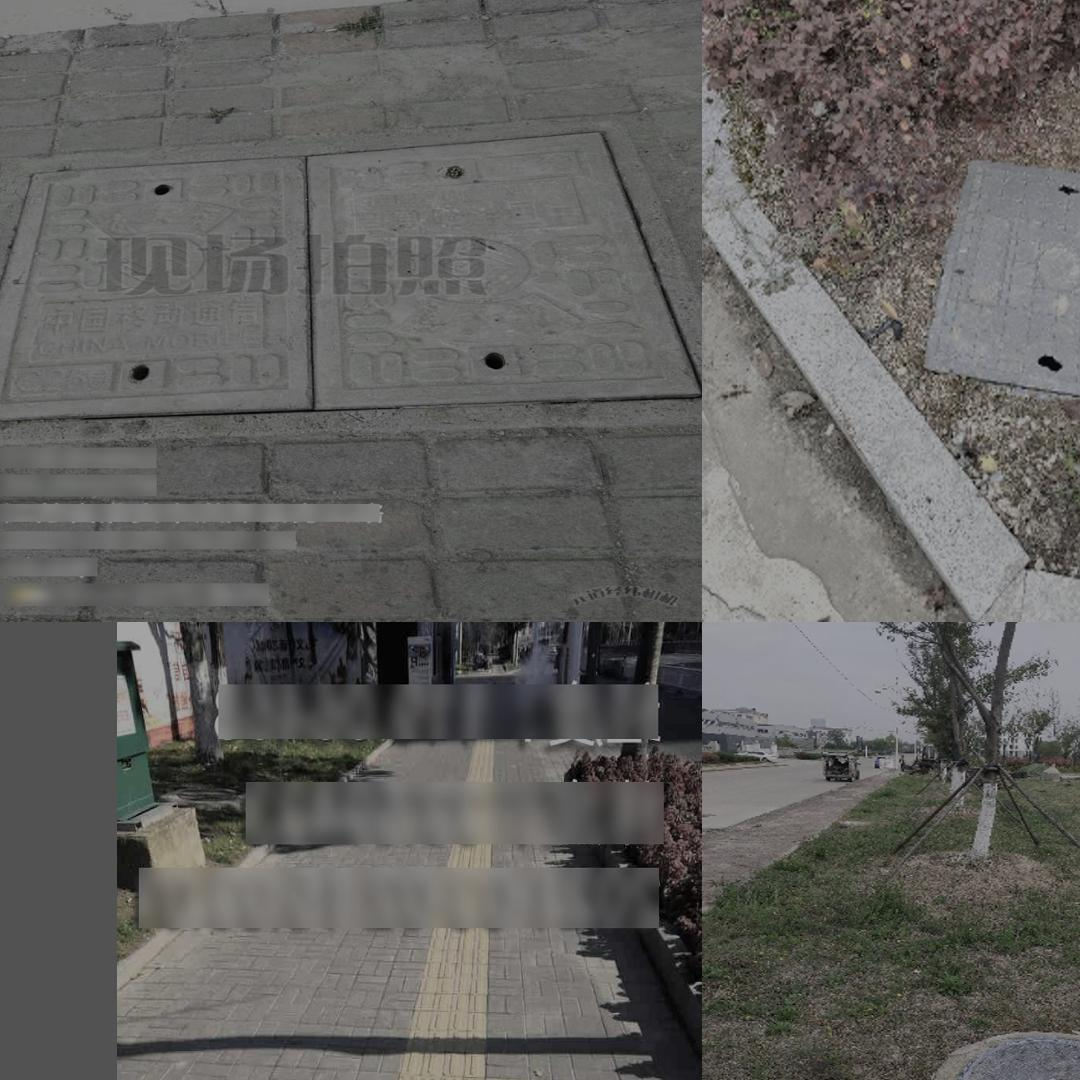good: (0, 121, 702, 443), (921, 158, 1080, 407), (952, 1030, 1080, 1080)
